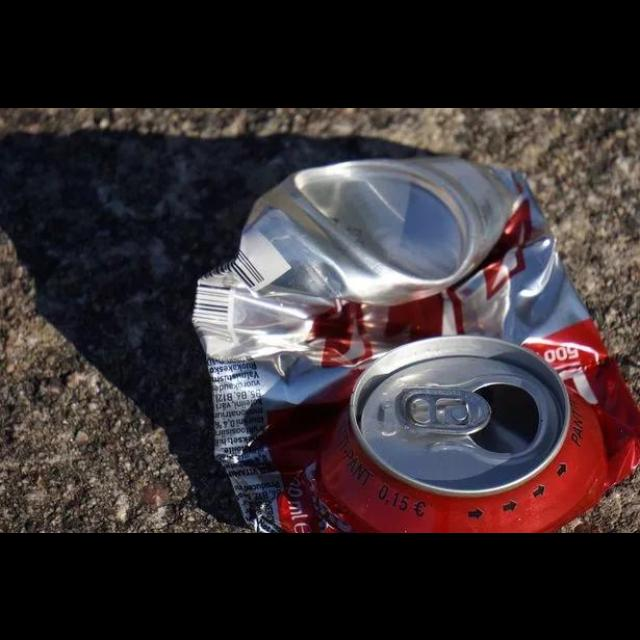aba de lata: (396, 386, 492, 434)
lata: (190, 152, 640, 532)
